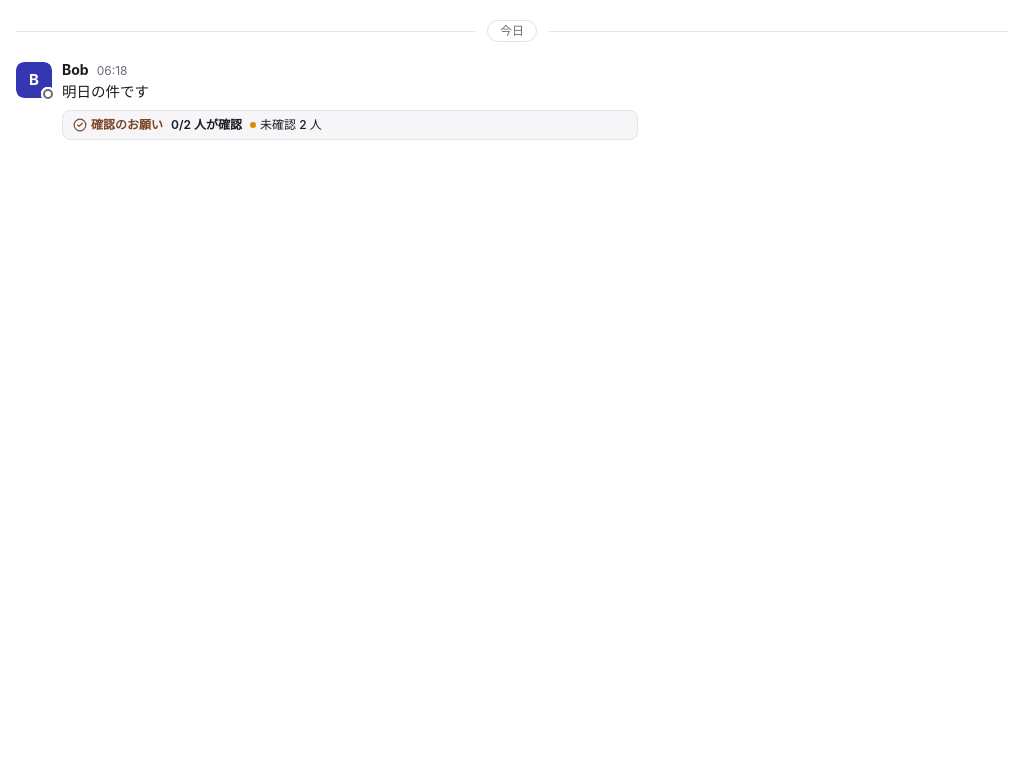
Test: 確認のお願い (M27, its own row since 2026-10-05) › the author: no button of their own, 「未確認 2 人」 opening the list with the reminder
This screenshot has width=1024, height=768.
Click the button "未確認 2 人" at [286, 125], box x1=250 y1=117 x2=322 y2=133
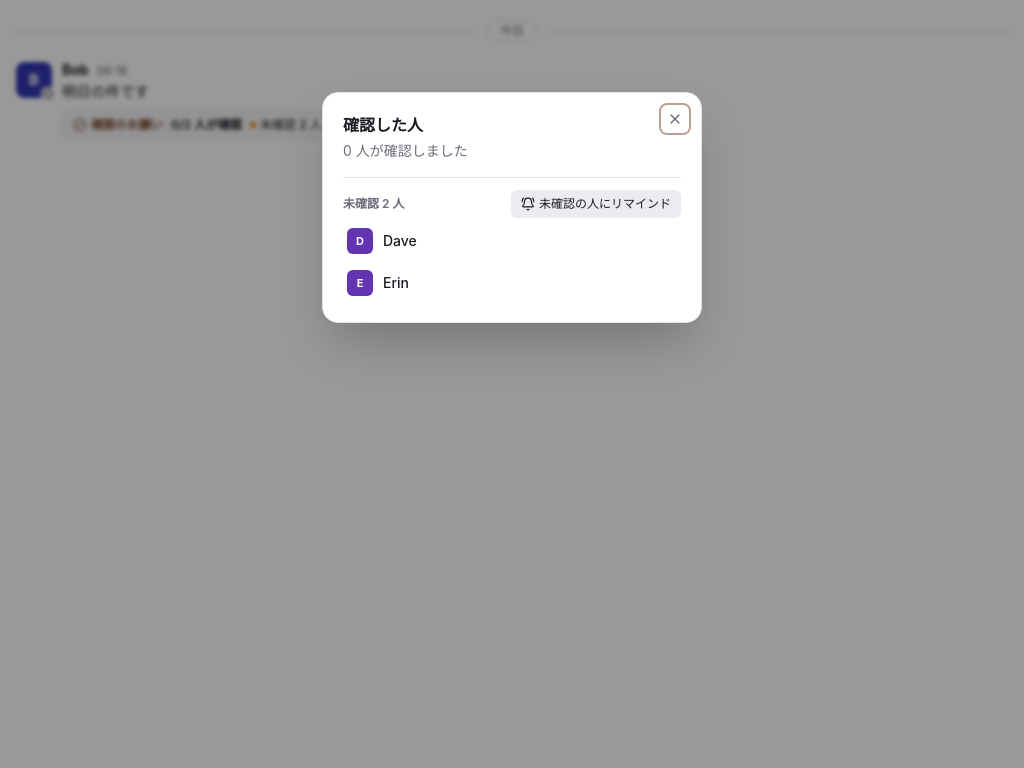
Result: the heading "未確認 2 人" is shown at x1=343 y1=196 x2=404 y2=212
Result: the button "未確認の人にリマインド" is shown at x1=511 y1=190 x2=681 y2=218
